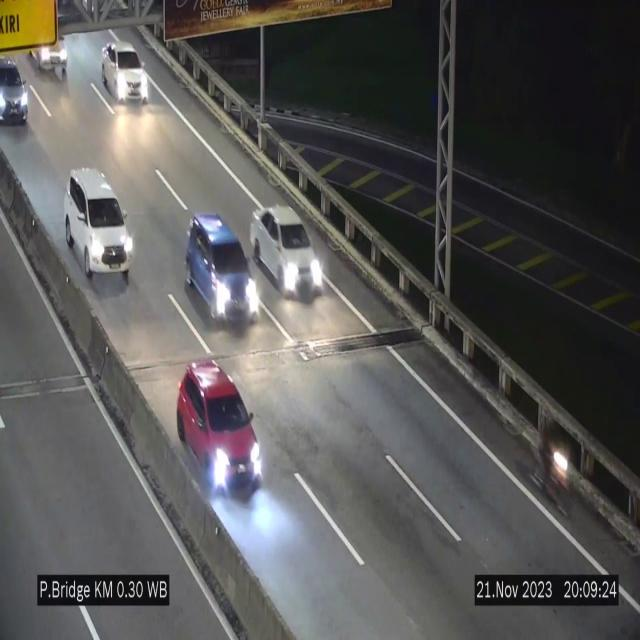Car: (179, 358, 263, 498), (185, 213, 261, 325), (64, 169, 130, 283), (250, 205, 324, 298), (0, 42, 38, 126), (101, 42, 149, 101), (27, 20, 79, 72)
Motorcycle: (532, 411, 570, 515)
